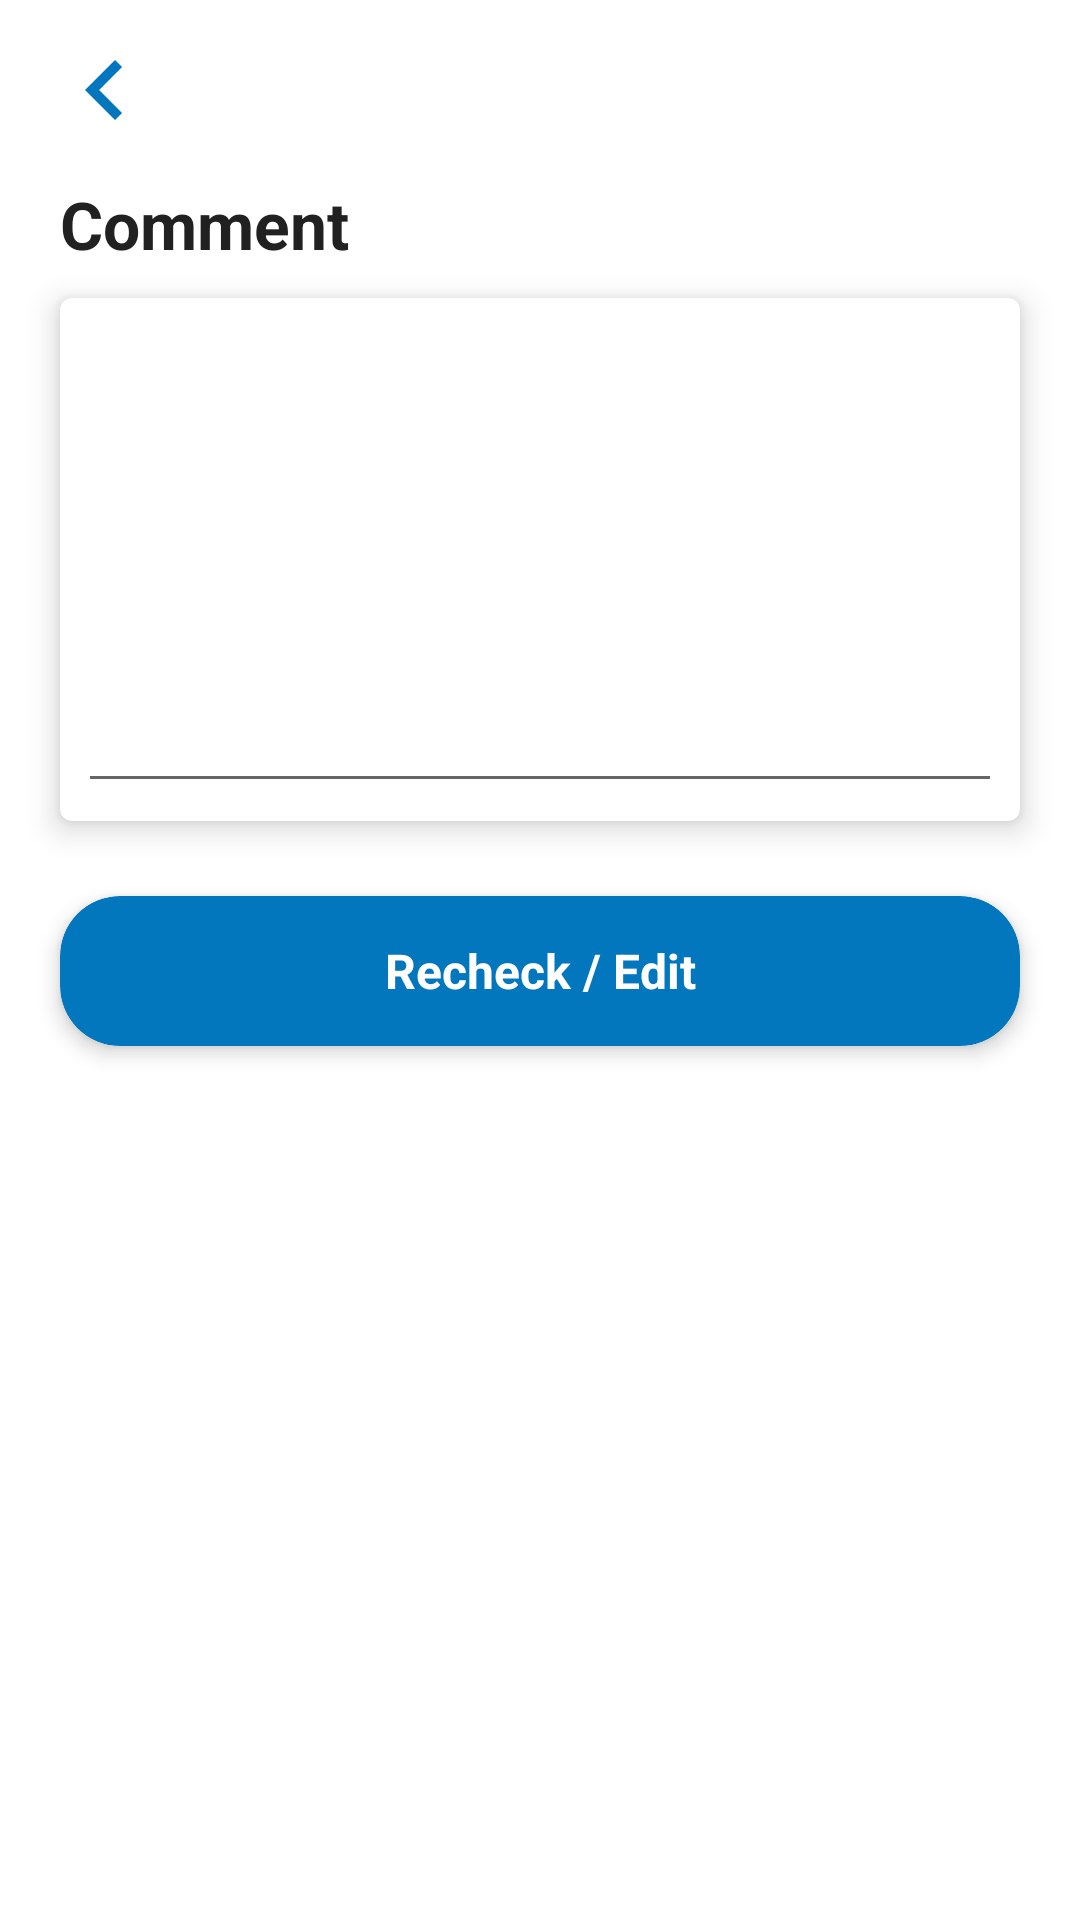

Icon click points for this 1080w x 1920h phone screenshot, format point (x, y):
chevron left: point (103, 90)
